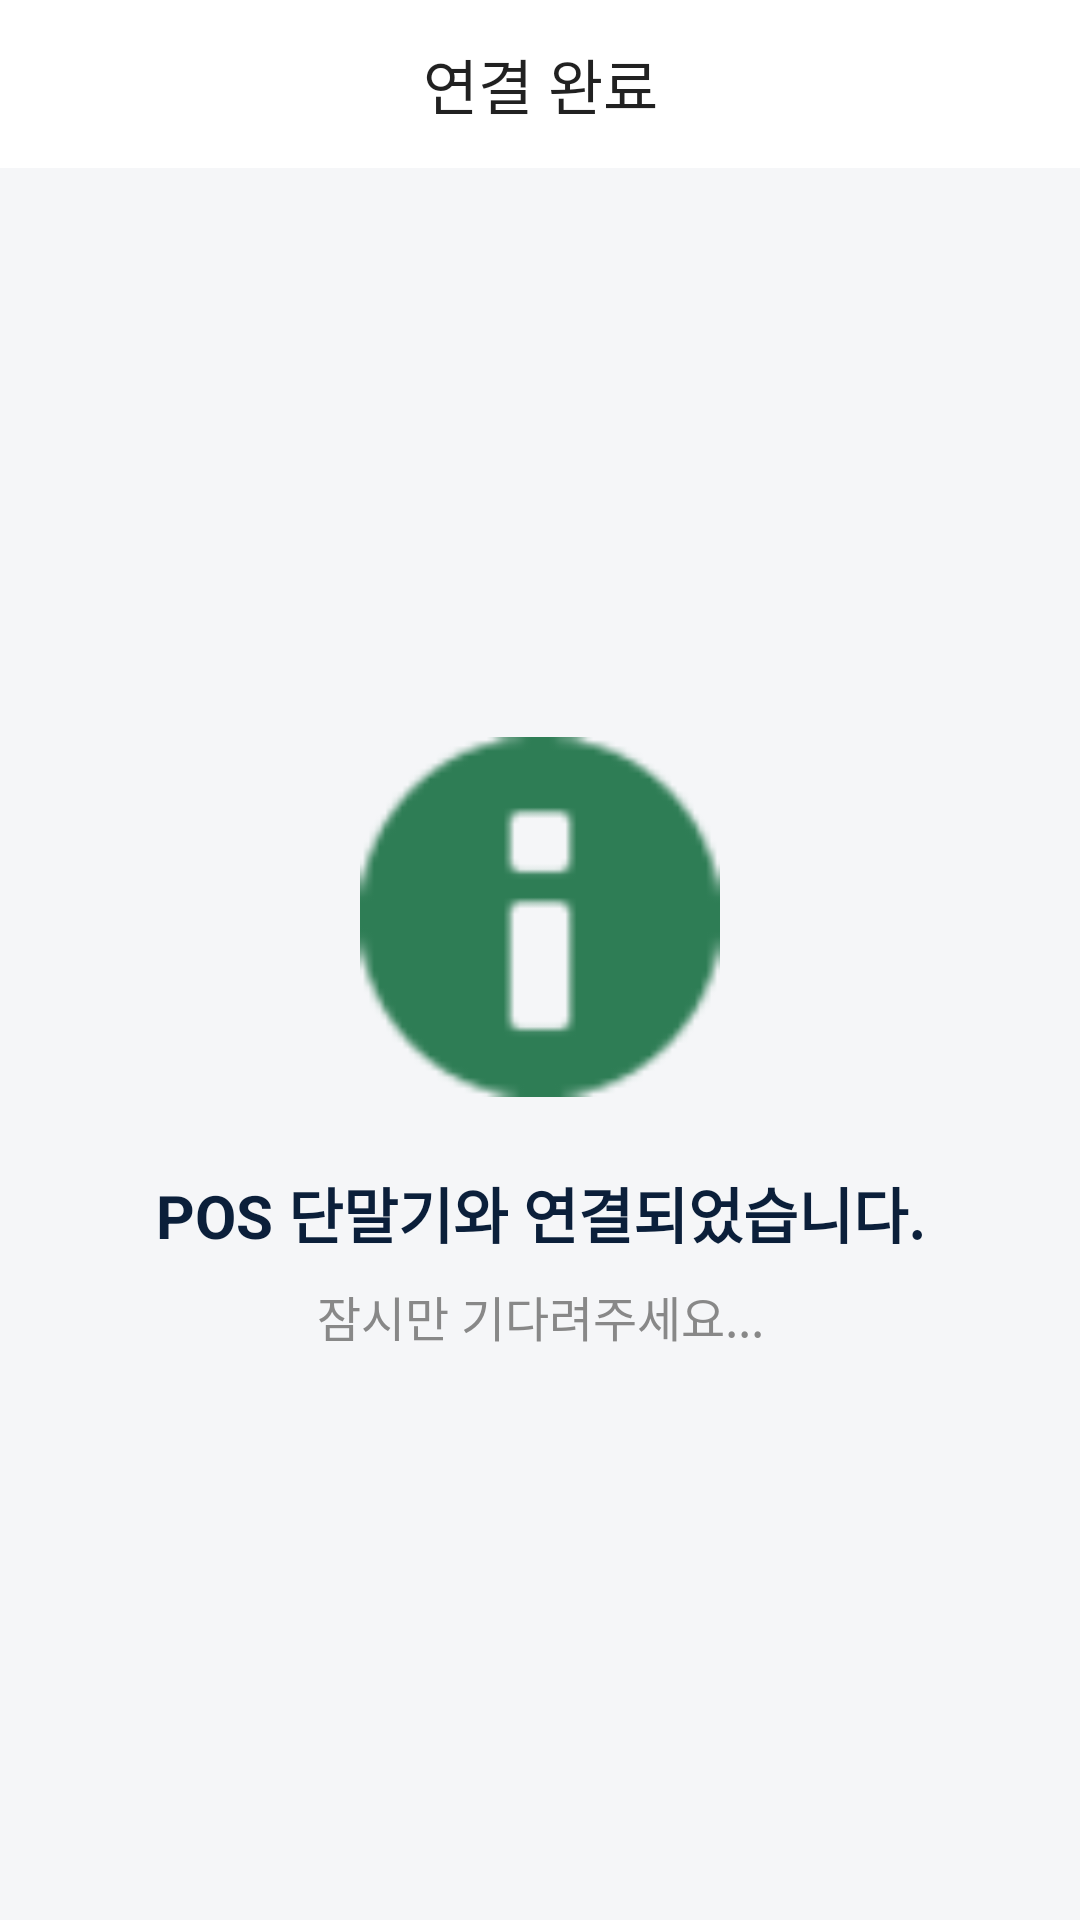

Named icons in this screenshot (1080*1920) and their bounding boxes, region(x1, y1, x2, y2):
info: region(360, 737, 720, 1097)
